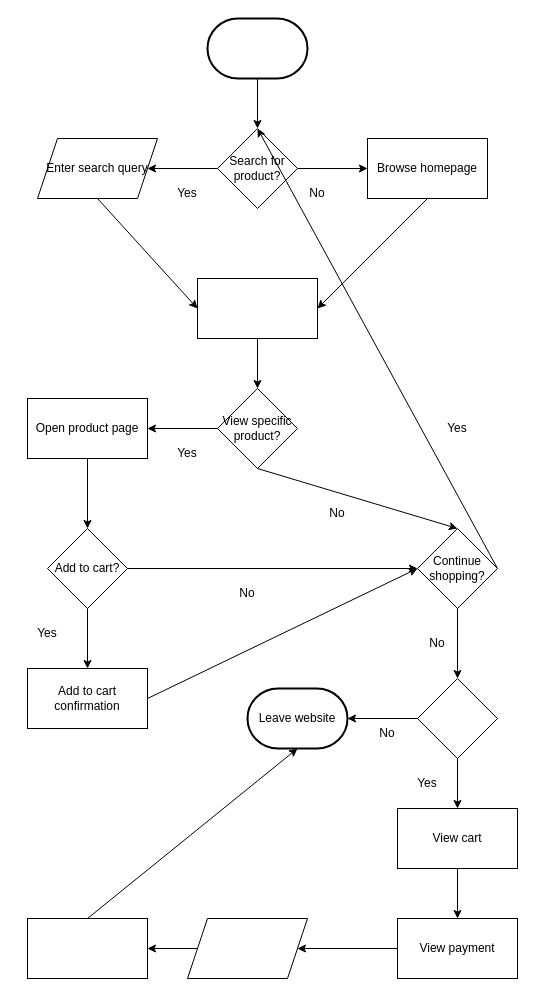
Image size: 535x996. Some labels were removed from this diagram. Each missing label, with the box of its shape:
Checkout?: (416, 678, 498, 758)
Enter payment info: (186, 918, 308, 978)
Enter website: (206, 17, 308, 79)
Order confirmation & send email: (26, 918, 148, 978)
View products: (196, 278, 318, 338)
